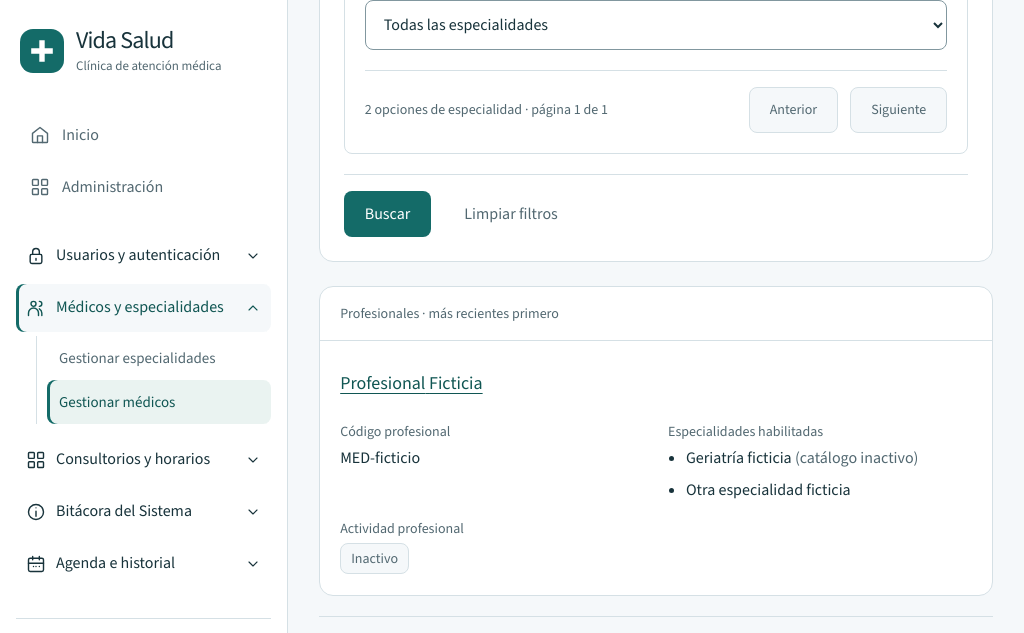
datos profesionales y alta CU-10 fase 3 › lista → detalle muestra historia, catálogo, cuenta y actividad independientes sin contenido ajeno
This screenshot has width=1024, height=633.
(page scrolled)
Click the link with aria-label "Ver médico Profesional Ficticia" at (411, 383), box [340,371,483,395]
(page scrolled)
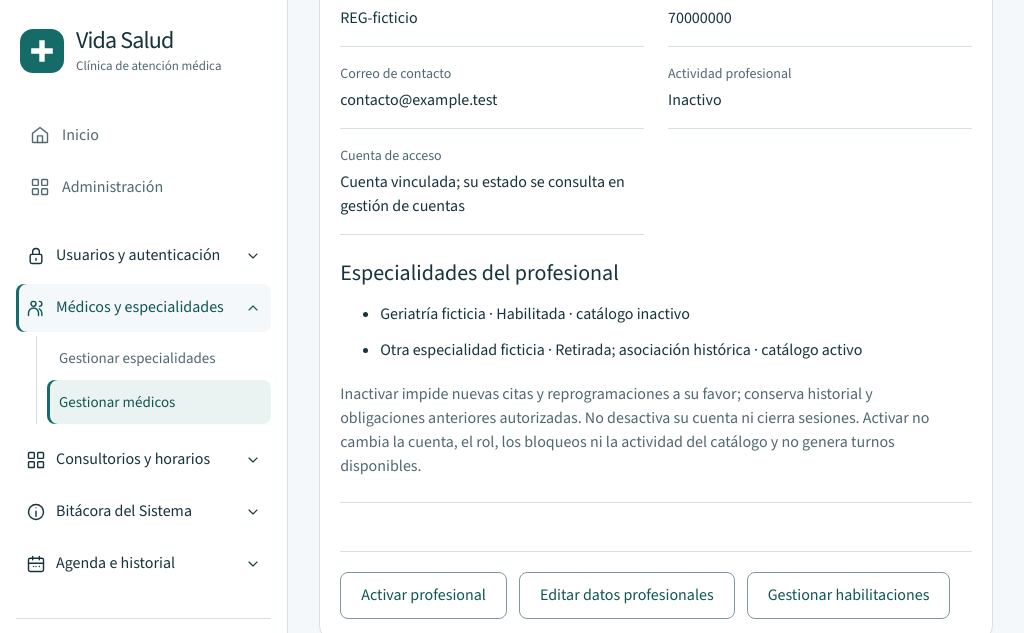
Expected: the list item "Retirada; asociación histórica" is shown, [555,339,751,360]
Expected: the text "Cuenta vinculada; su estado se consulta en gestión de cuentas" is shown, [340,170,644,218]
Expected: the button "Activar profesional" is shown, [340,572,507,619]
